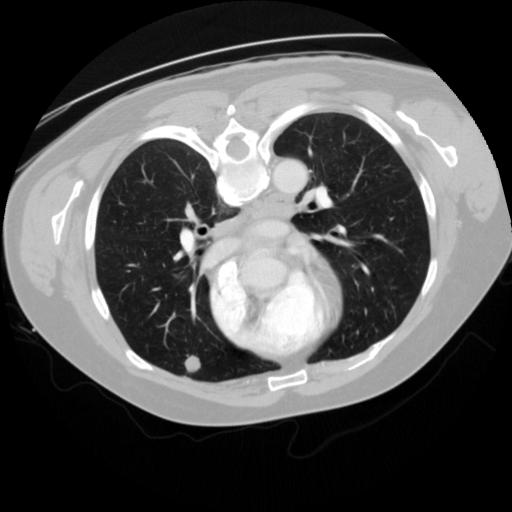nodule: (180, 353, 205, 378)
